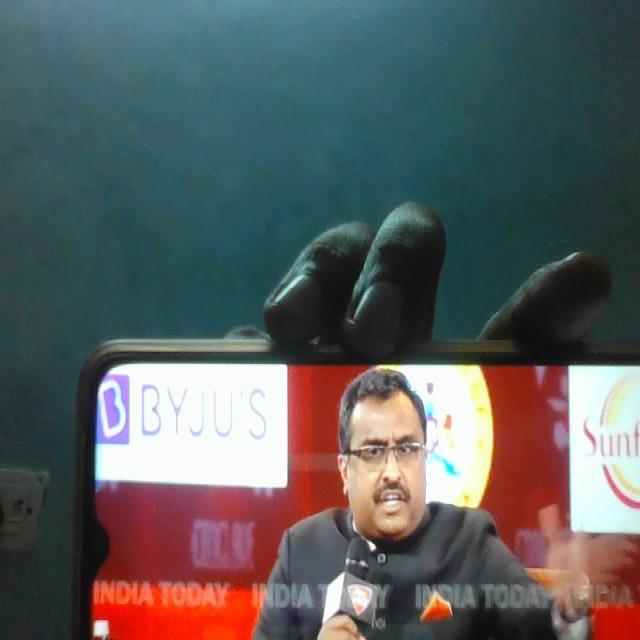fake: (335, 349, 449, 564)
